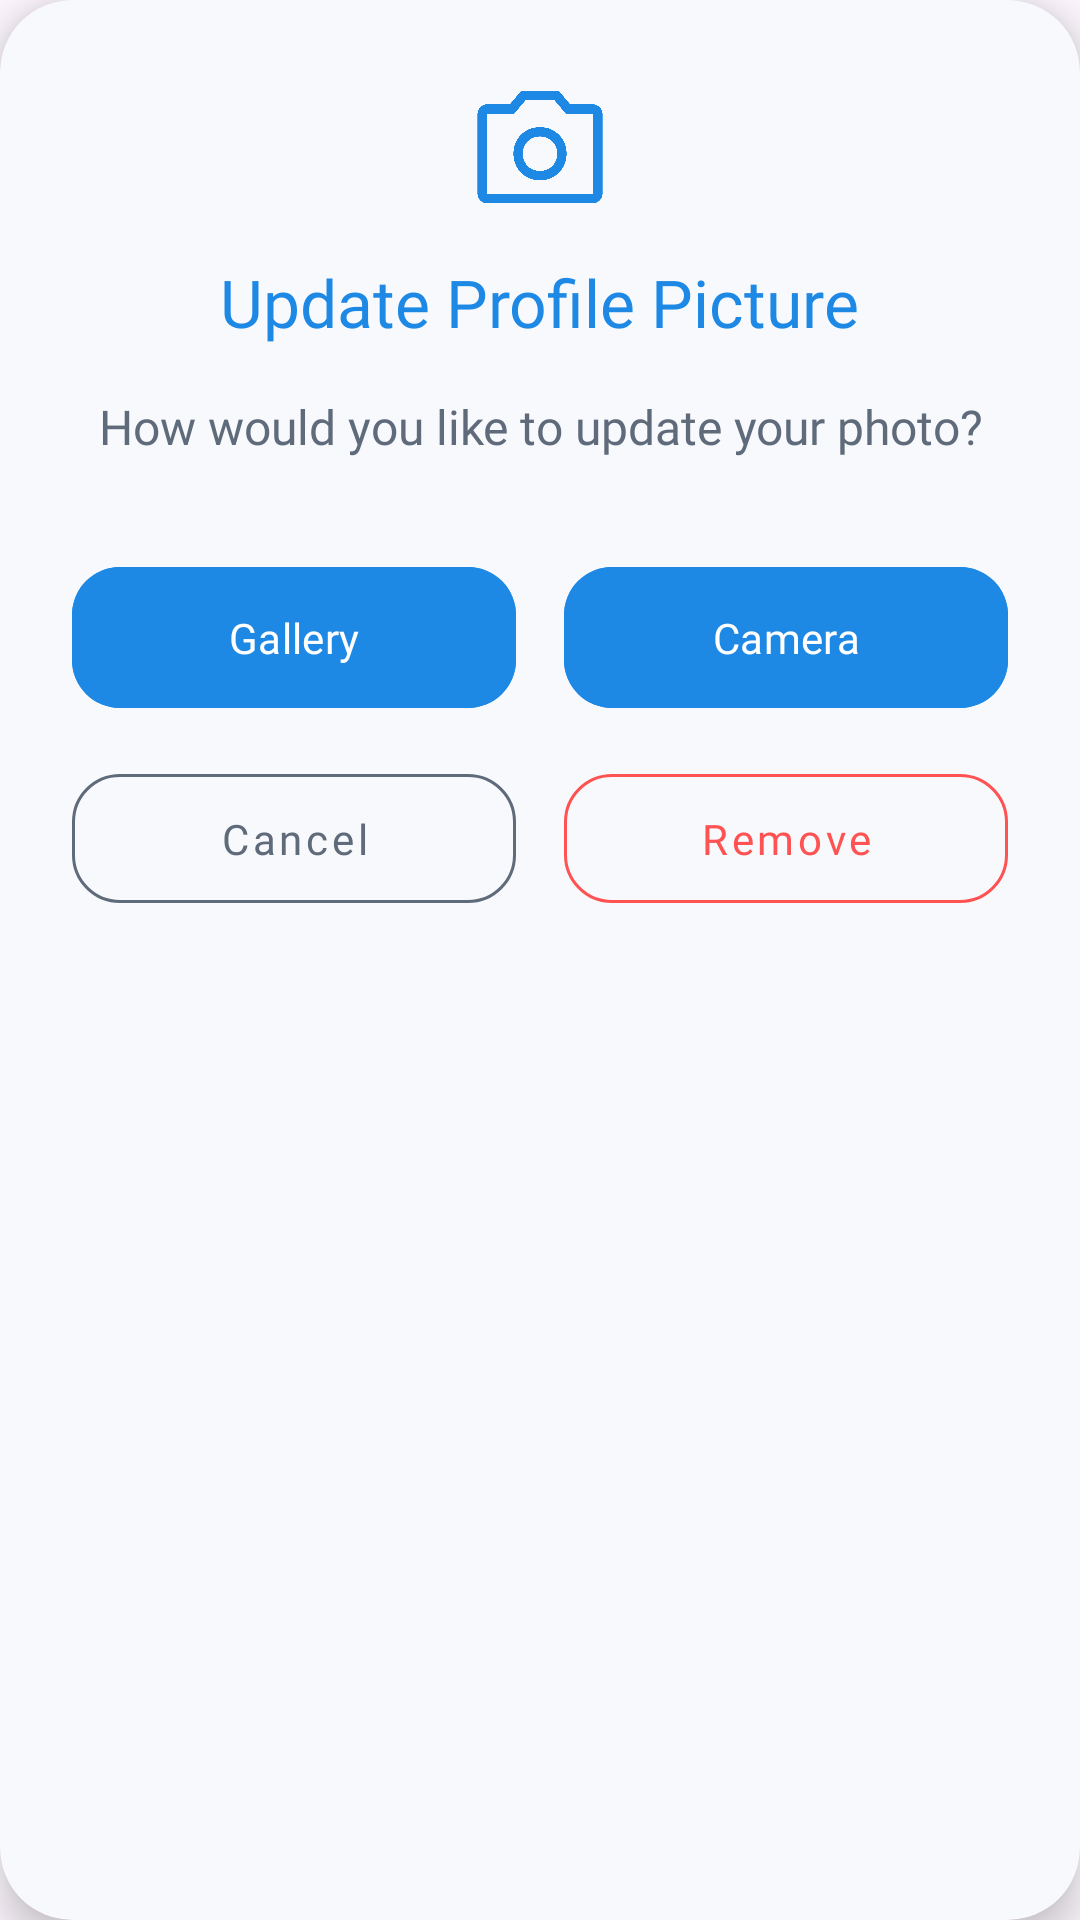

Locate icon controls on the screen. Image size 1080×1920, boxes as (x1, y1, x2, y2).
camera: (477, 91, 603, 203)
